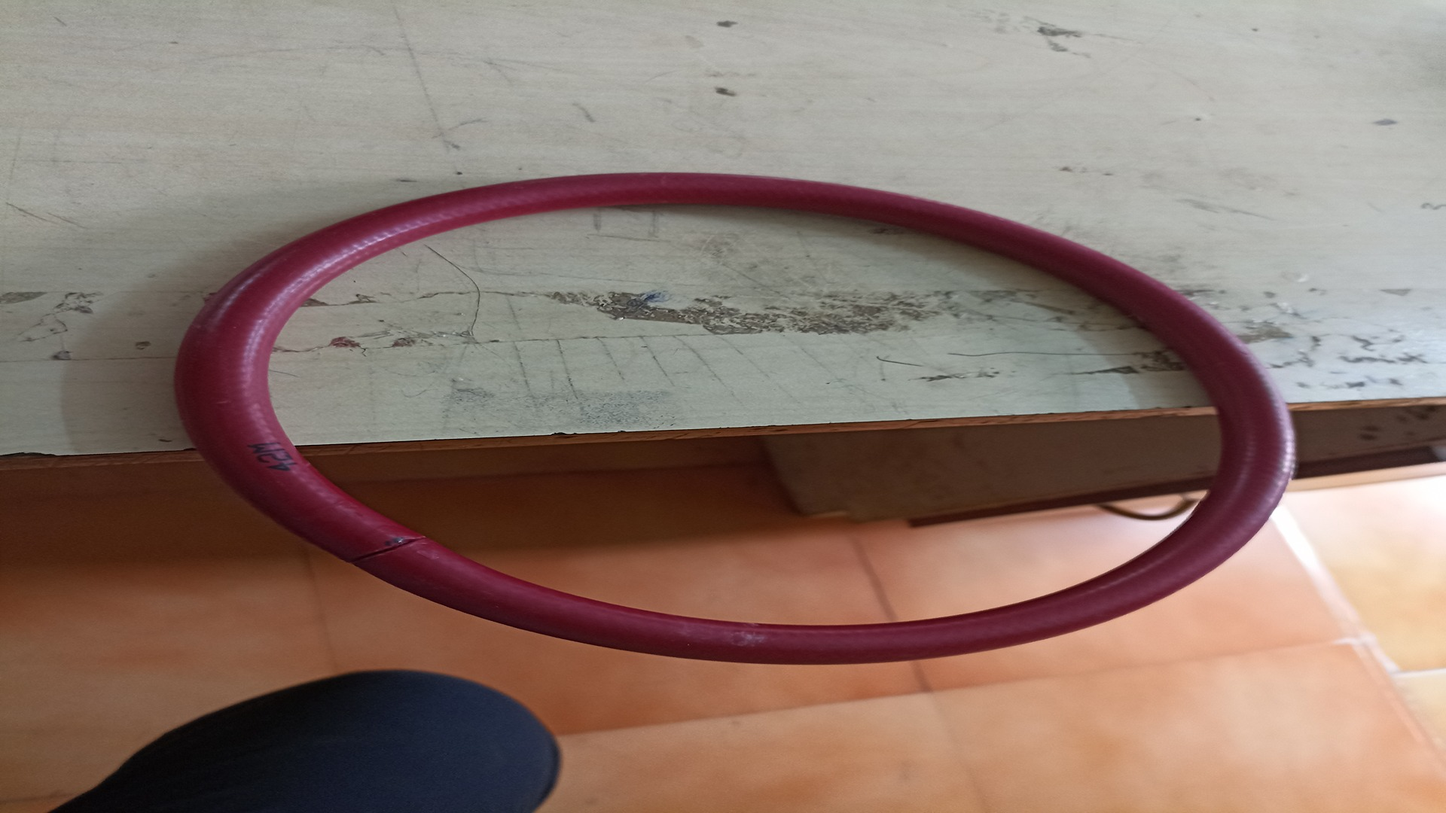Red ring: (181, 175, 1297, 653)
